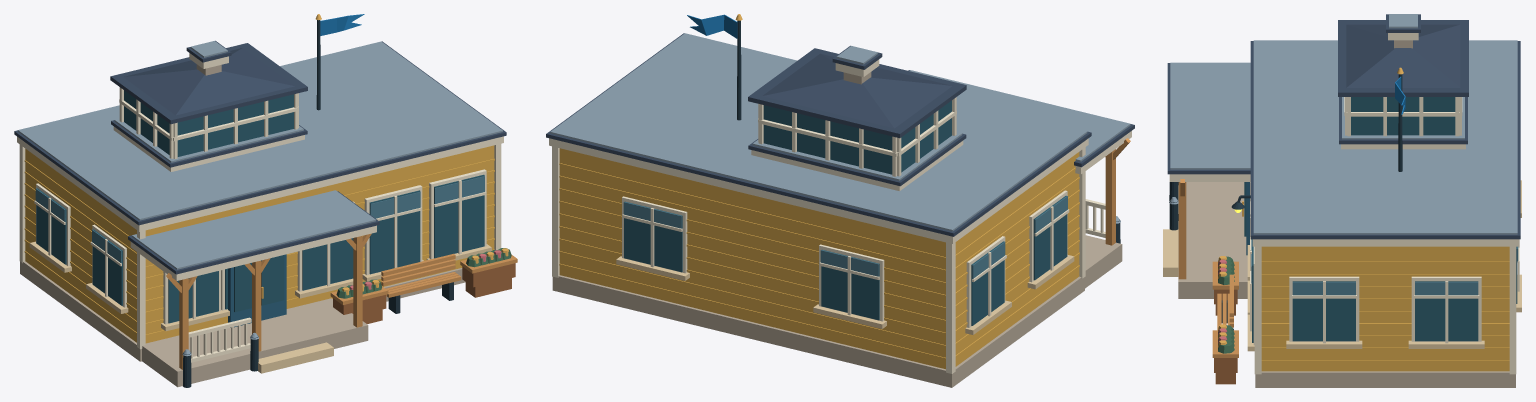
Rendered from harbor_office.glb.
3 renders of one model, left to right at view 1: azimuth 30°, elevation 25°; view 2: azimuth 150°, elevation 25°; view 3: azimuth 270°, elevation 25°, orthographic. The views are drawn at different scales.
Visible parts, largest first — view 1: harbor_office; view 2: harbor_office; view 3: harbor_office.
Part boxes in pixels (left/top/right/bottom): harbor_office: left=14, top=14, right=517, bottom=387; harbor_office: left=546, top=14, right=1134, bottom=387; harbor_office: left=1163, top=14, right=1521, bottom=387.
Size of the model in its own units: 10.98 by 6.72 by 8.45.
